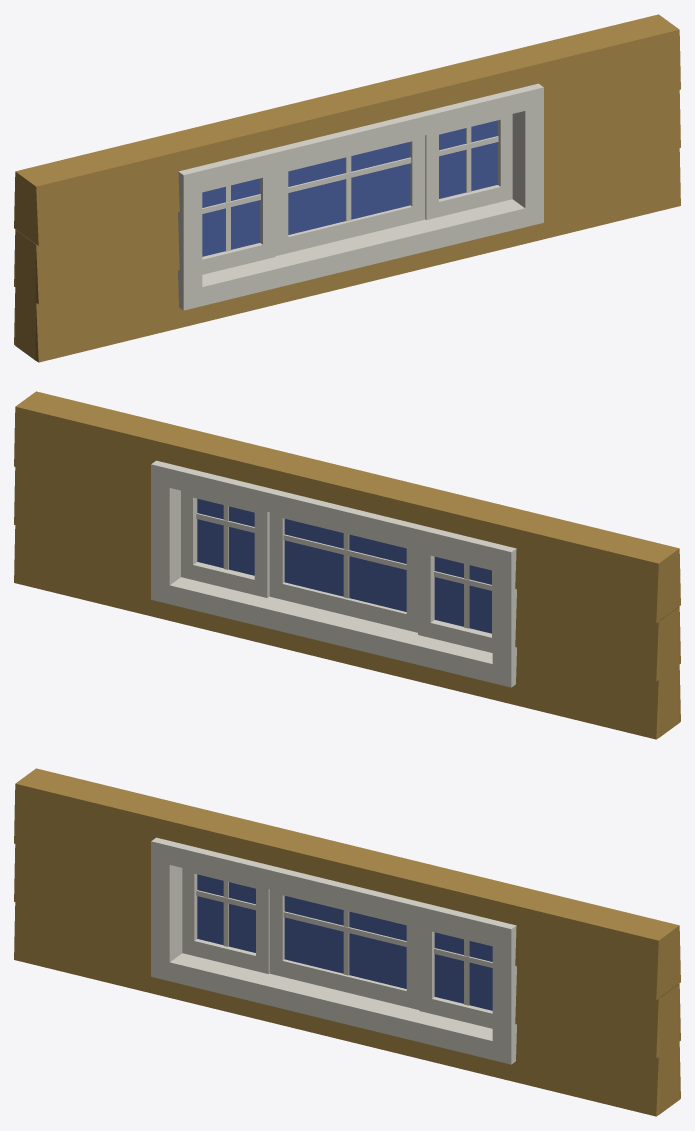
File: Window03_house4.obj
3 renders of one model, top to bottom at view 1: azimuth 30°, elevation 25°; view 2: azimuth 150°, elevation 25°; view 3: azimuth 330°, elevation 25°, orthographic.
Parts seen in each view (by area): view 1: Window03_house04_Cube.013; view 2: Window03_house04_Cube.013; view 3: Window03_house04_Cube.013.
Boxes of the visible parts, bbox=[...] form: Window03_house04_Cube.013: bbox=[14, 14, 680, 362]; Window03_house04_Cube.013: bbox=[14, 391, 680, 739]; Window03_house04_Cube.013: bbox=[14, 768, 680, 1116].
Size of the model in its own units: 5.47 by 1.42 by 0.4775.
